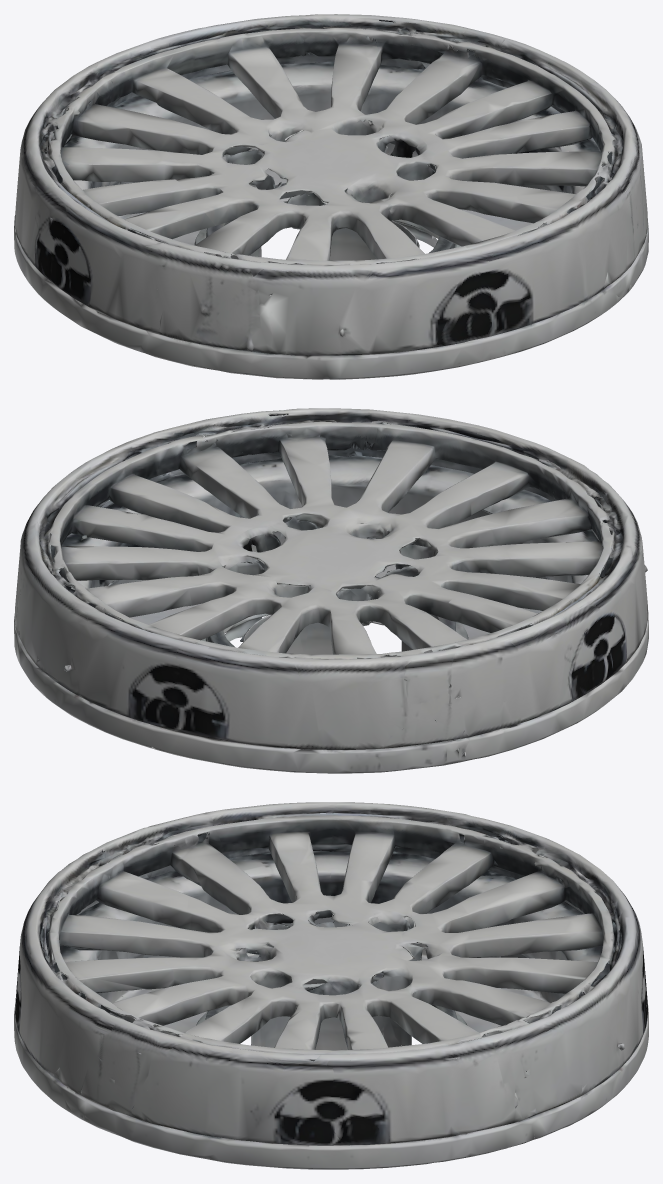
The model's file is prop-drain-cover.glb.
3 views of the same model, one above another, from view 1: azimuth 30°, elevation 25°; view 2: azimuth 150°, elevation 25°; view 3: azimuth 270°, elevation 25° (orthographic).
Visible parts, largest first — view 1: tripo_node_53e9d287-d66a-4c2c-8e71-8c8ee559d36e; view 2: tripo_node_53e9d287-d66a-4c2c-8e71-8c8ee559d36e; view 3: tripo_node_53e9d287-d66a-4c2c-8e71-8c8ee559d36e.
Boxes of the visible parts, bbox=[...] form: tripo_node_53e9d287-d66a-4c2c-8e71-8c8ee559d36e: bbox=[14, 14, 648, 379]; tripo_node_53e9d287-d66a-4c2c-8e71-8c8ee559d36e: bbox=[14, 408, 648, 773]; tripo_node_53e9d287-d66a-4c2c-8e71-8c8ee559d36e: bbox=[14, 802, 648, 1169].
Size of the model in its own units: 0.1412 by 0.05 by 0.1409.
1 material, 1 textured.
